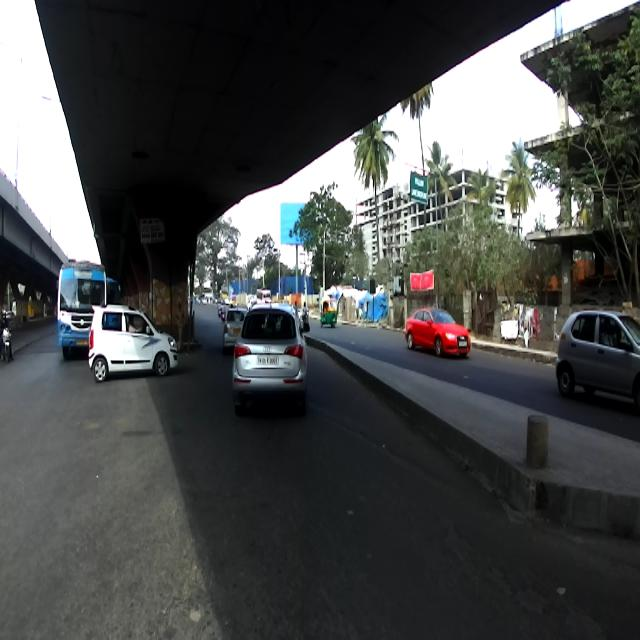barrier ahead at: (518, 402, 562, 529)
car ahead at: (227, 288, 317, 418), (84, 298, 180, 392)
